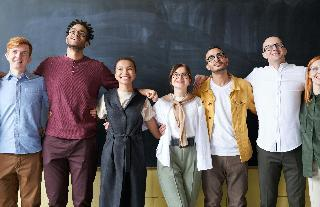person - v3 P: (33, 20, 118, 206), (245, 37, 306, 206), (193, 46, 256, 206), (97, 57, 160, 206), (153, 64, 212, 206), (0, 37, 48, 206), (300, 56, 319, 206)
